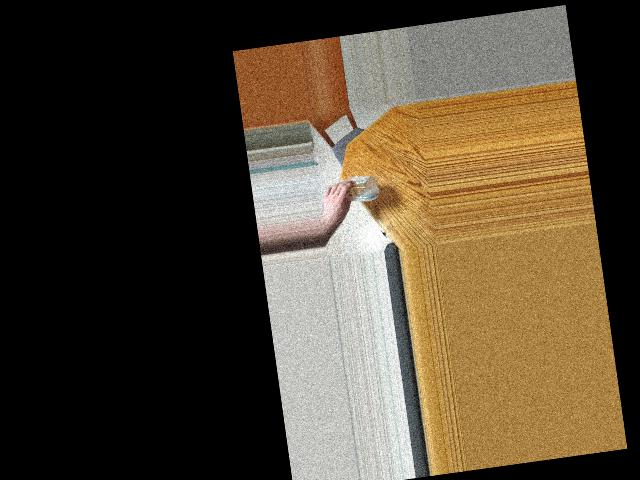cheese: (338, 164, 382, 221)
